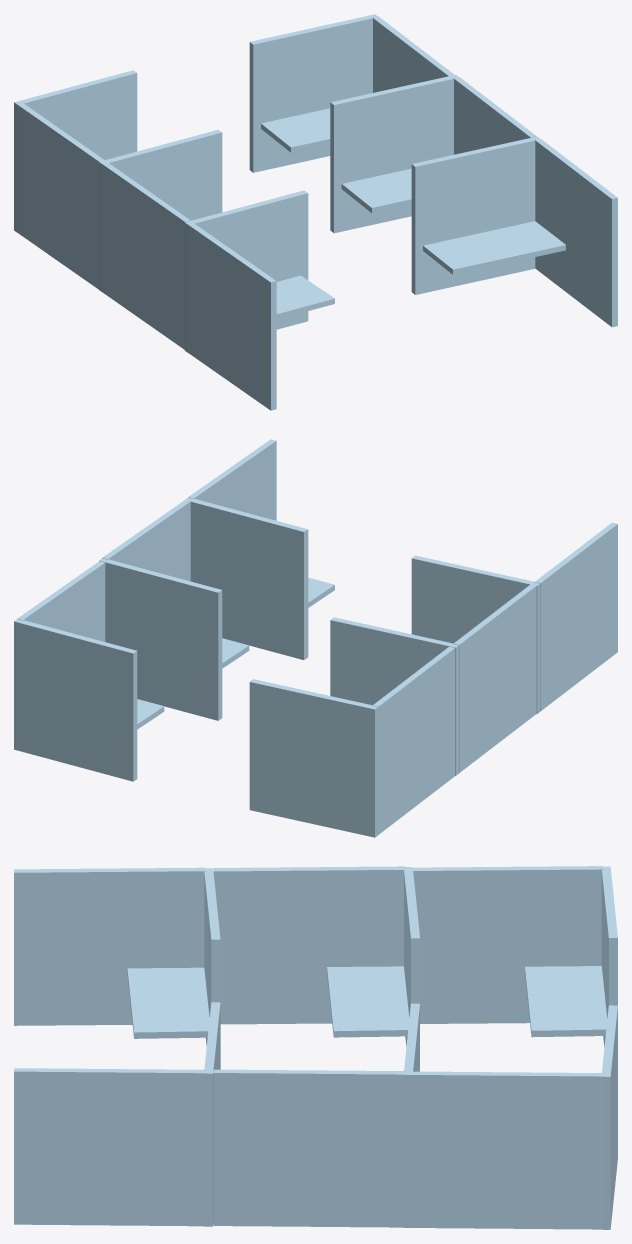
The model's file is cubicles.fbx.
The picture shows the model from 3 angles, top to bottom: view 1: azimuth 30°, elevation 25°; view 2: azimuth 150°, elevation 25°; view 3: azimuth 270°, elevation 25°; orthographic projection. The views are drawn at different scales.
Visible parts, largest first — view 1: MCcubicle.001, Cube.068, Cube.081, Cube.002, Cube.087, Cube.061; view 2: Cube.087, Cube.061, MCcubicle.001, Cube.002, Cube.081, Cube.068; view 3: Cube.068, Cube.061, MCcubicle.001, Cube.081, Cube.002, Cube.087.
Part boxes in pixels (x1,y1,x2,y2): MCcubicle.001: (411, 136, 617, 327); Cube.068: (184, 190, 334, 410); Cube.081: (99, 130, 222, 349); Cube.002: (330, 75, 536, 233); Cube.087: (14, 70, 137, 289); Cube.061: (249, 14, 454, 172); Cube.087: (249, 646, 455, 837); Cube.061: (14, 561, 164, 781); MCcubicle.001: (185, 439, 334, 659); Cube.002: (99, 500, 249, 720); Cube.081: (330, 584, 536, 775); Cube.068: (411, 522, 617, 713); Cube.068: (14, 867, 220, 1045); Cube.061: (412, 1005, 617, 1229); MCcubicle.001: (14, 1002, 220, 1226); Cube.081: (213, 866, 419, 1046); Cube.002: (213, 1003, 419, 1227); Cube.087: (413, 866, 617, 1046).
Size of the model in its own units: 441 by 151 by 535.
